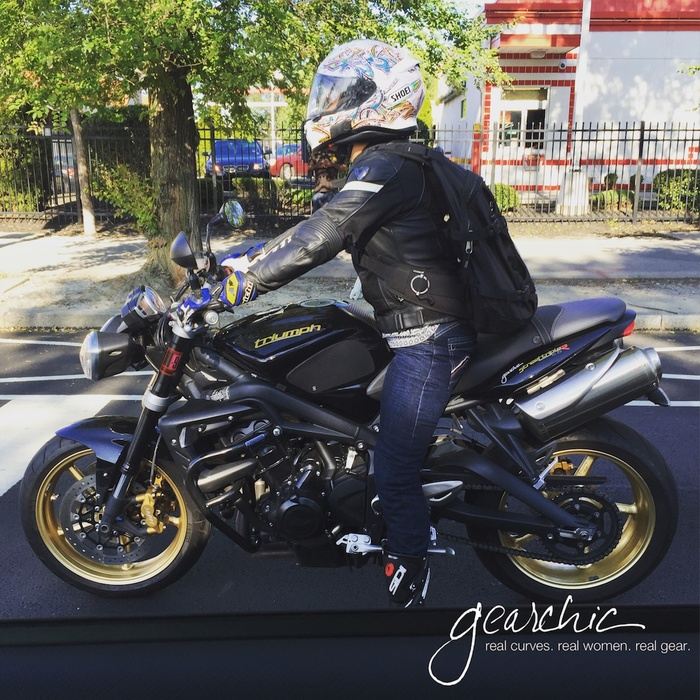h: (300, 39, 425, 159)
